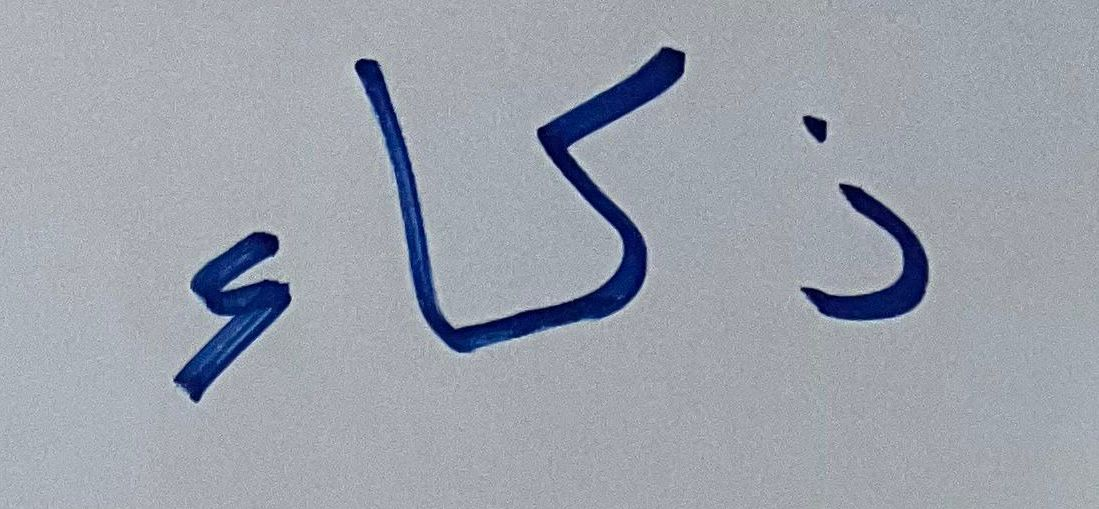alef: (323, 33, 499, 372)
kaf: (507, 32, 709, 357)
khah: (102, 192, 314, 429)
noon: (755, 92, 971, 376)
